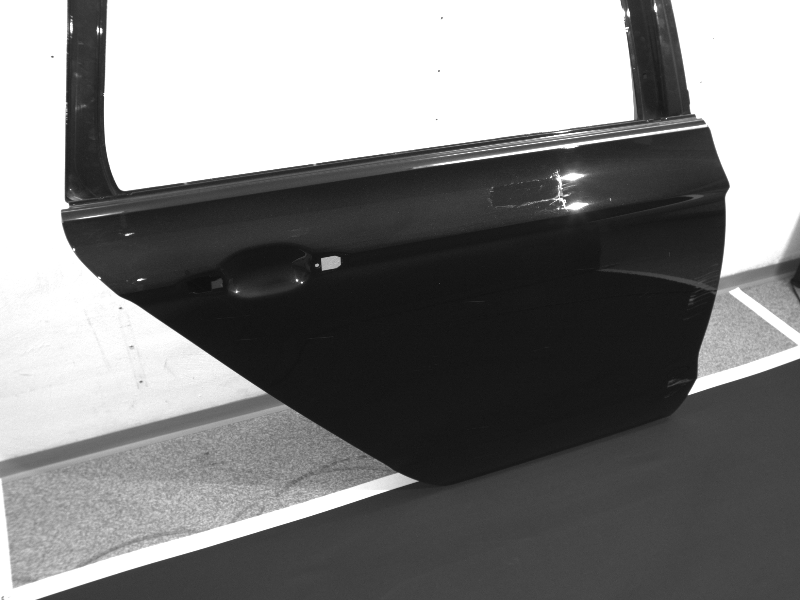scratch: (683, 263, 721, 321), (664, 375, 690, 399), (305, 334, 336, 340), (460, 298, 486, 304), (240, 338, 258, 342), (667, 251, 671, 258)
